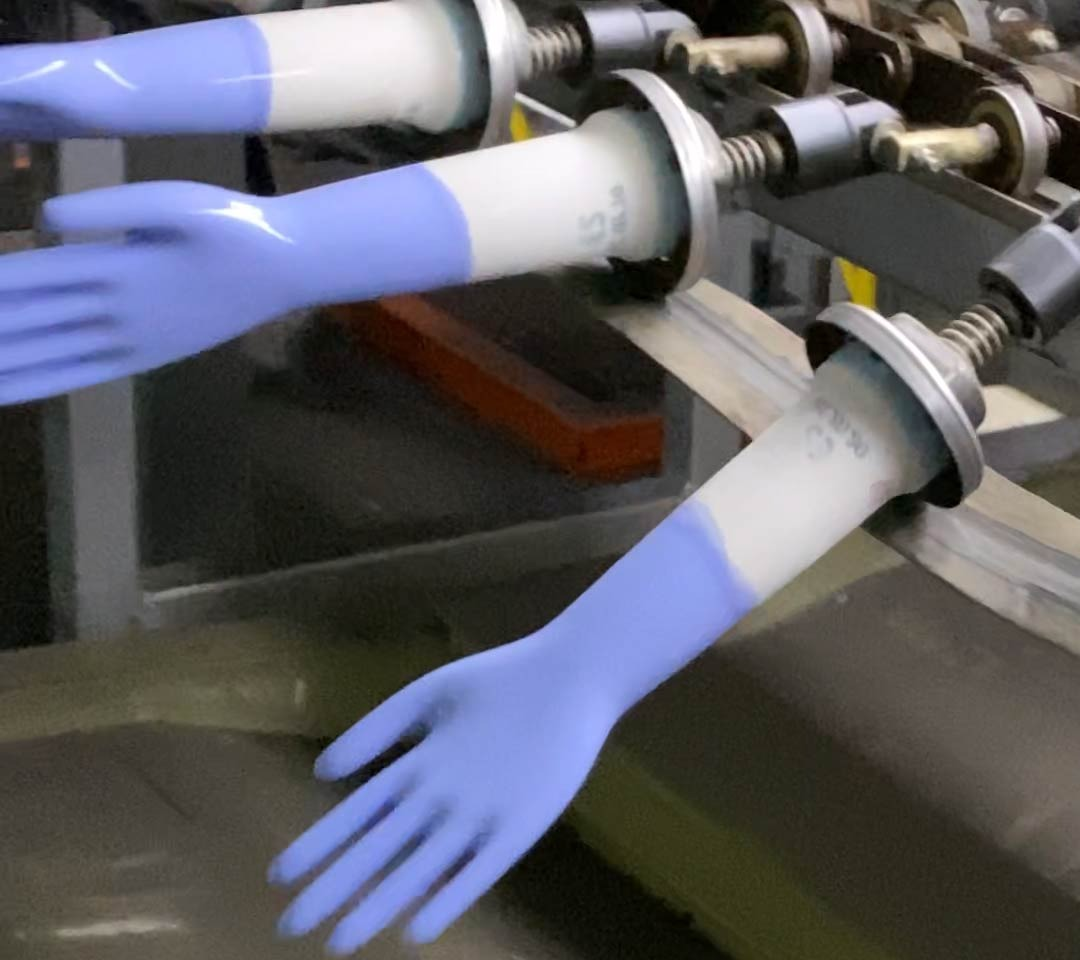glove: (261, 500, 764, 955), (1, 162, 479, 405)
